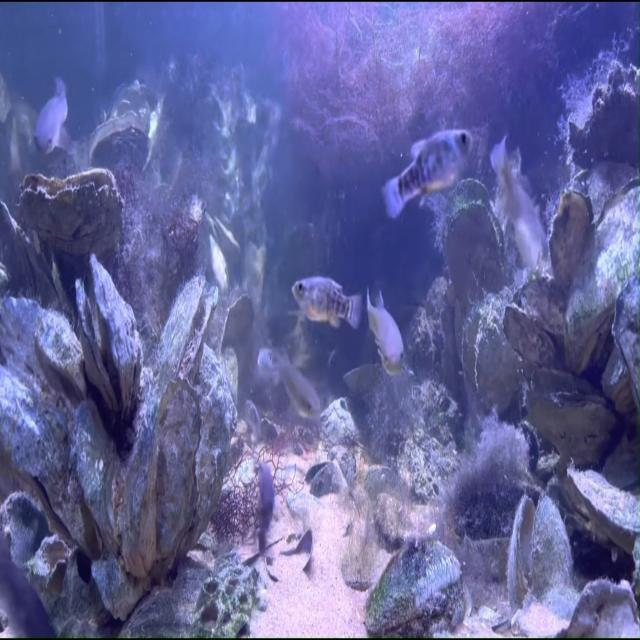Oyster-Closed: (173, 344, 247, 546), (119, 551, 268, 638), (64, 397, 137, 557), (363, 539, 466, 638), (149, 378, 204, 561), (0, 364, 69, 498), (117, 384, 160, 578), (26, 303, 95, 408), (533, 187, 601, 292), (0, 485, 64, 570), (310, 396, 364, 456)
Oyster-Open: (60, 247, 156, 423), (509, 347, 631, 483), (503, 493, 581, 639), (432, 174, 514, 309), (20, 169, 123, 256), (150, 269, 223, 386), (501, 272, 568, 375), (612, 275, 640, 424), (89, 111, 150, 171), (221, 293, 255, 399)
